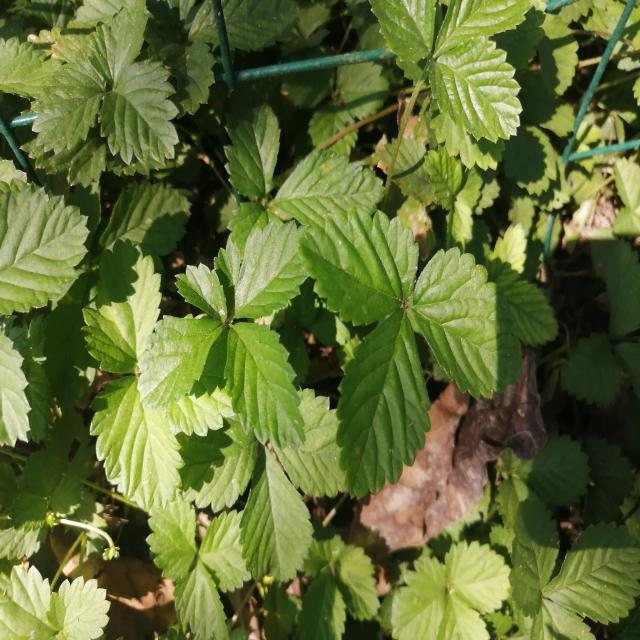Mock_strawberry: (300, 201, 509, 483), (145, 230, 322, 452), (113, 469, 267, 624)
